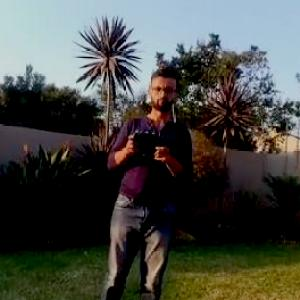follow: (85, 57, 192, 299)
